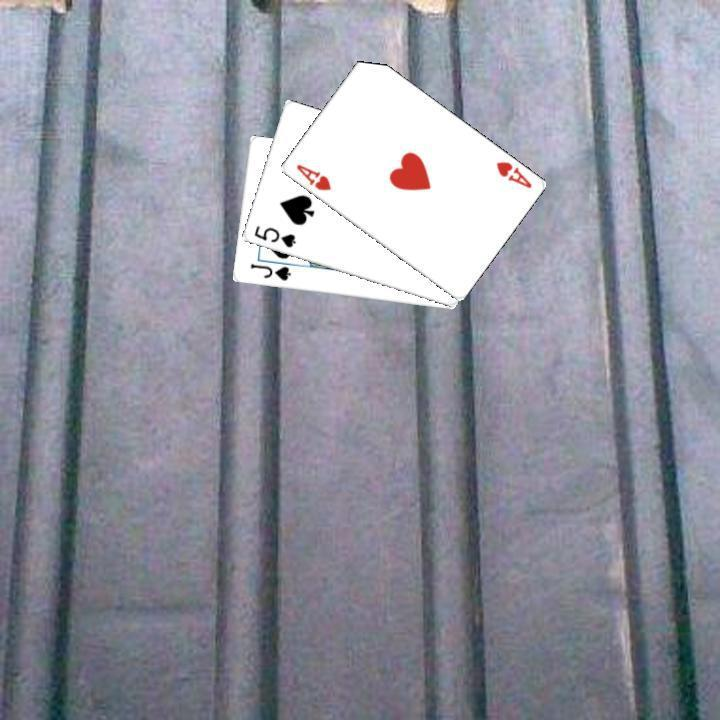5: (249, 222, 297, 250)
A: (491, 157, 534, 190), (291, 160, 333, 193)
J: (246, 260, 293, 283)
